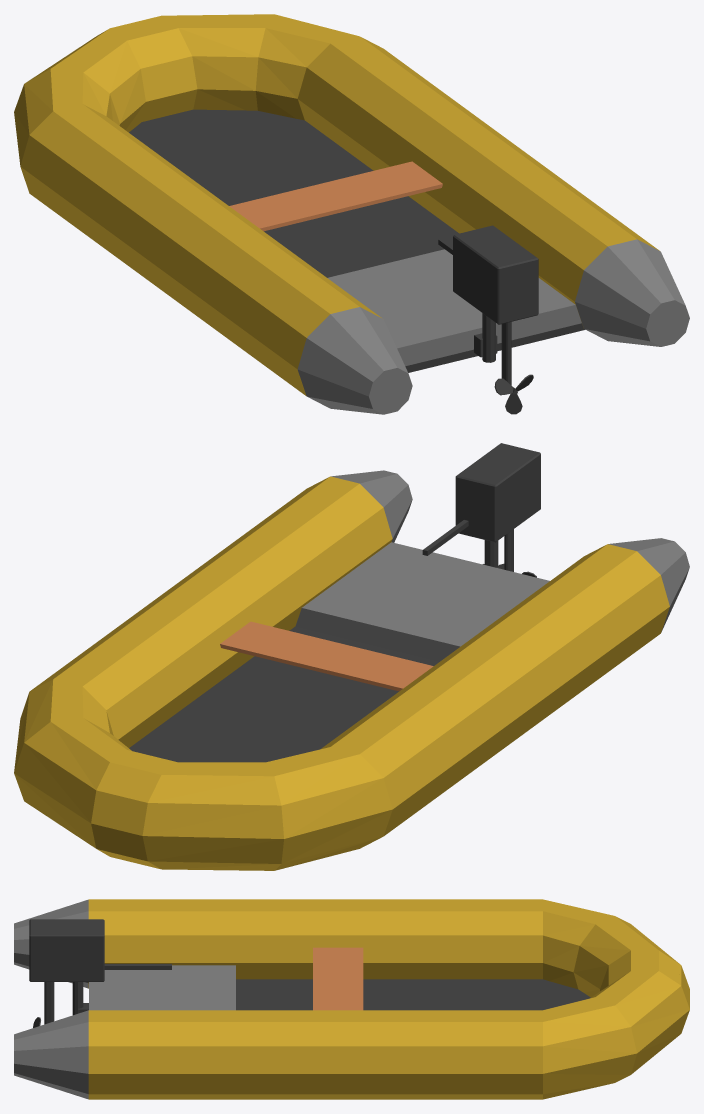
Rendered from rubber_dinghy.fbx.
3 renders of one model, top to bottom at view 1: azimuth 30°, elevation 25°; view 2: azimuth 150°, elevation 25°; view 3: azimuth 270°, elevation 25°, orthographic. The views are drawn at different scales.
Visible parts, largest first — view 1: Box002; view 2: Box002; view 3: Box002.
Boxes of the visible parts, <box> form: Box002: <box>14,14,689,414</box>; Box002: <box>14,443,689,870</box>; Box002: <box>14,899,689,1099</box>.
Size of the model in its own units: 313 by 124 by 601.
1 material, 1 textured.
